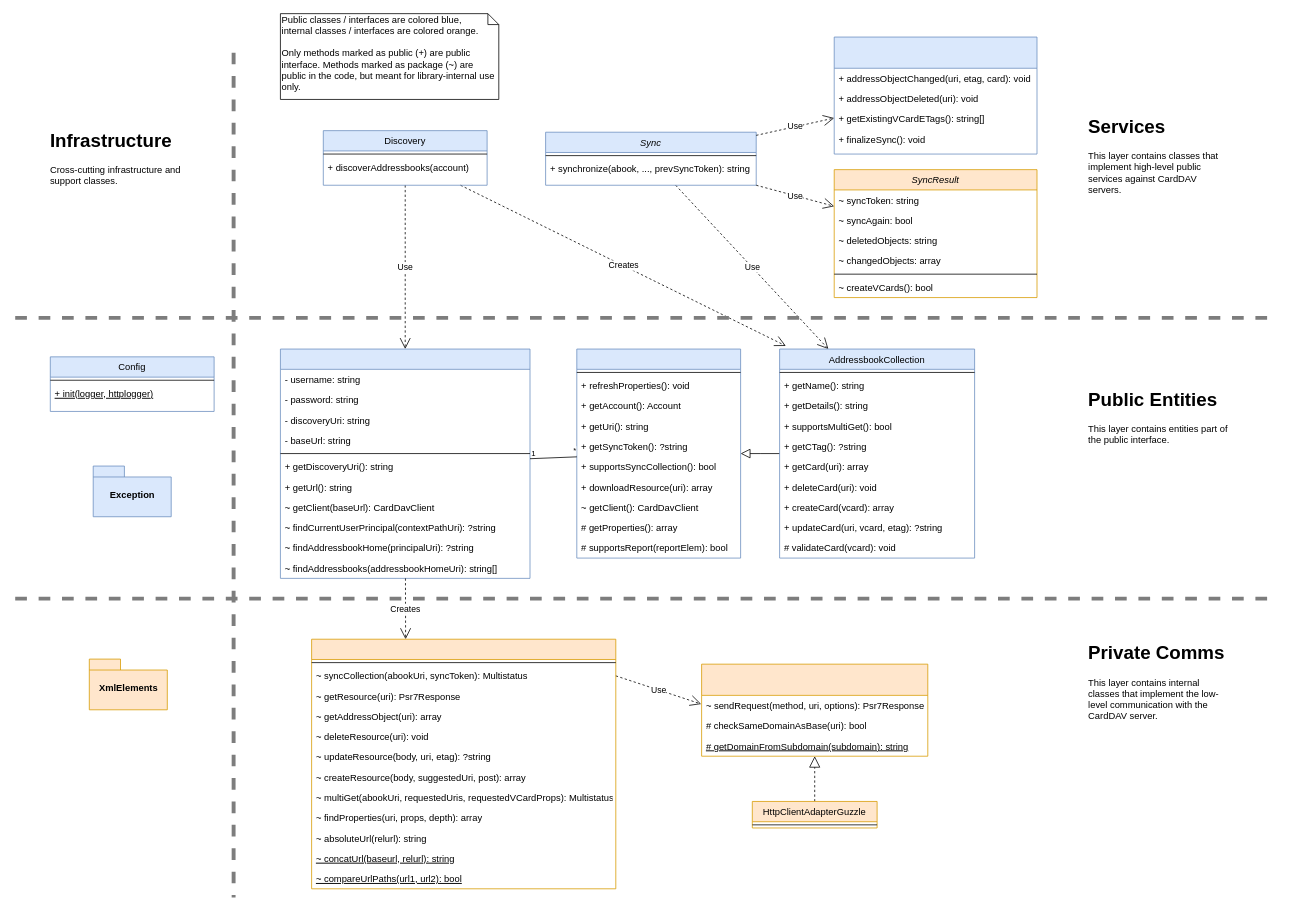
The diagram is 1295 pixels wide and 914 high, and some of its shapes have lost their labels. Each missing label, with the box of its shape:
Account: (280, 348, 530, 578)
CardDavClient: (311, 638, 616, 889)
HttpClientAdapter: (701, 663, 928, 756)
WebDavCollection: (576, 348, 741, 558)
«interface» SyncHandler: (833, 36, 1037, 154)
